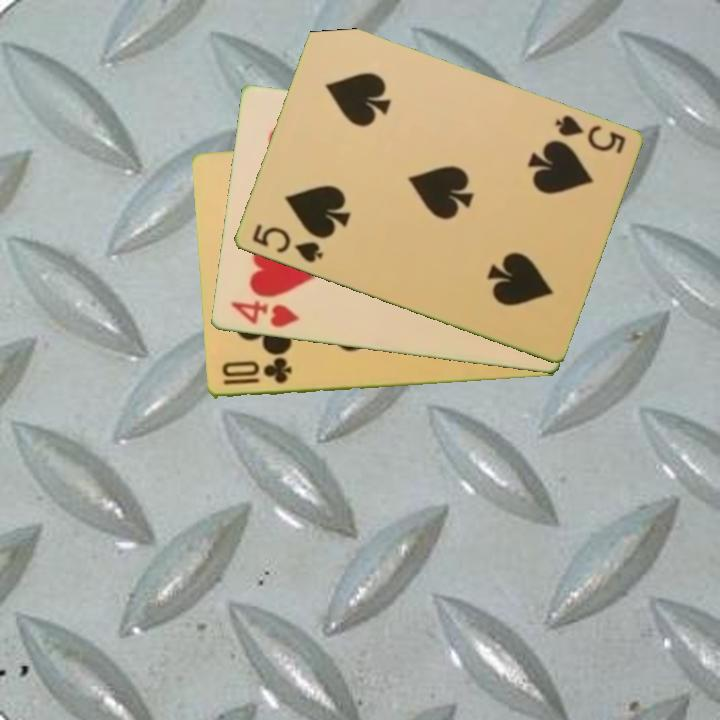10c: (218, 356, 294, 388)
4h: (226, 297, 302, 331)
5s: (248, 220, 326, 266), (550, 111, 628, 157)
